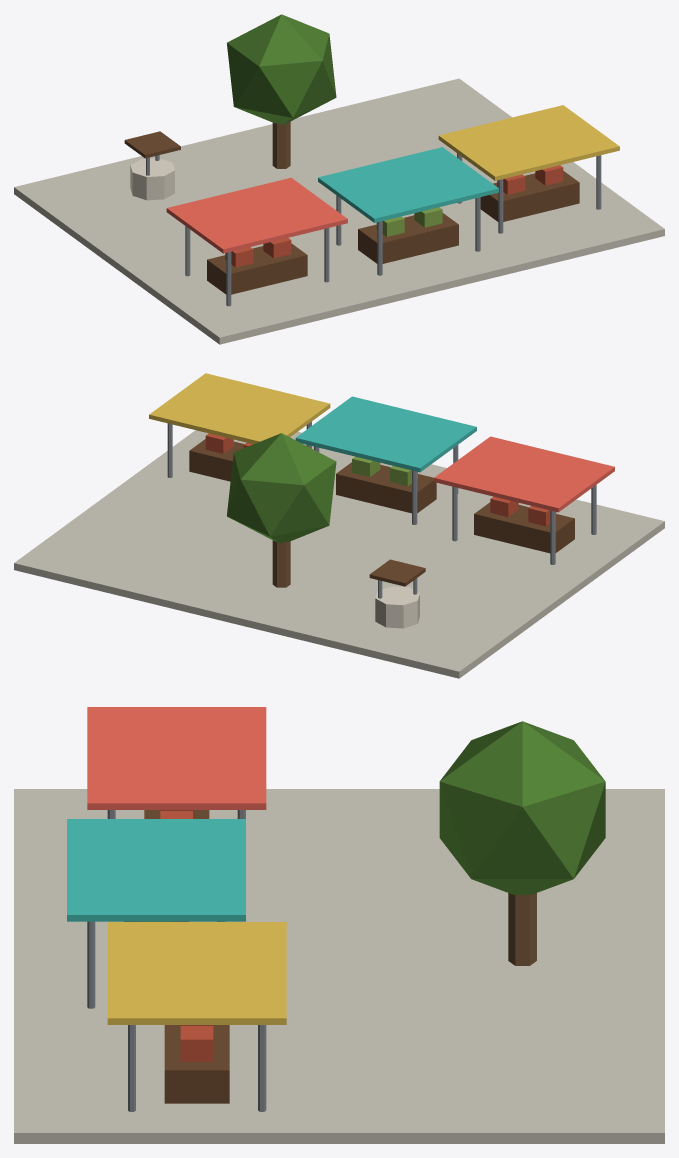
Rendered from building.farmers-market.glb.
3 views of the same model, one above another, from view 1: azimuth 30°, elevation 25°; view 2: azimuth 150°, elevation 25°; view 3: azimuth 270°, elevation 25° (orthographic). The views are drawn at different scales.
Parts seen in each view (by area): view 1: building.farmers-market; view 2: building.farmers-market; view 3: building.farmers-market.
Boxes of the visible parts, x1,y1,x2,y2 form: building.farmers-market: (14,14,664,344); building.farmers-market: (14,373,664,678); building.farmers-market: (14,707,664,1143).
Size of the model in its own units: 20 by 6.8 by 16.
